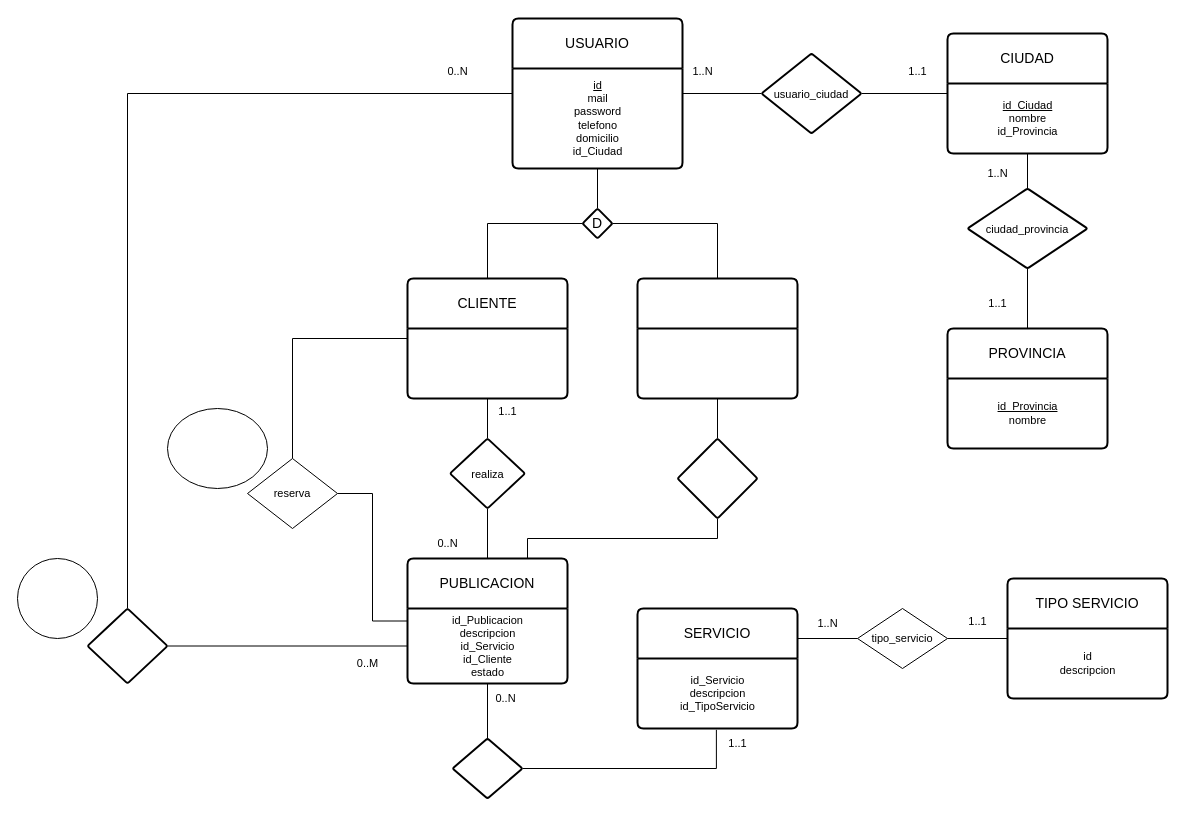
Some shapes in this 1186 by 816 pixel diagram are drawn without their labels. Here are the shapes that lost their labels. From the top down, the centre of each, then its label:
At (717,338): "ADMINISTRADOR".
At (217,448): "fecha_reserva estado precio".
At (717,478): "modera".
At (57,598): "valoracion descripcion".
At (127,645): "review".
At (487,768): "p_s".
